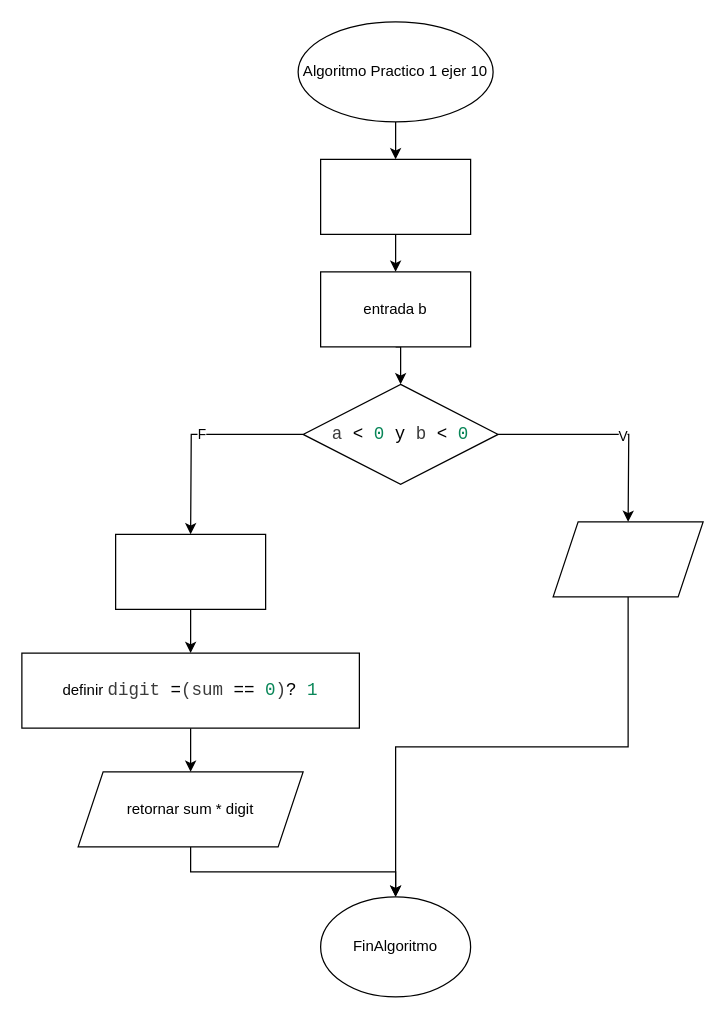
The diagram is 725 pixels wide and 1019 high, and some of its shapes have lost their labels. Each missing label, with the box of its shape:
definir sum = a + b: (114, 533, 266, 609)
entrada a: (319, 158, 471, 234)
retornar 0: (552, 521, 703, 597)
